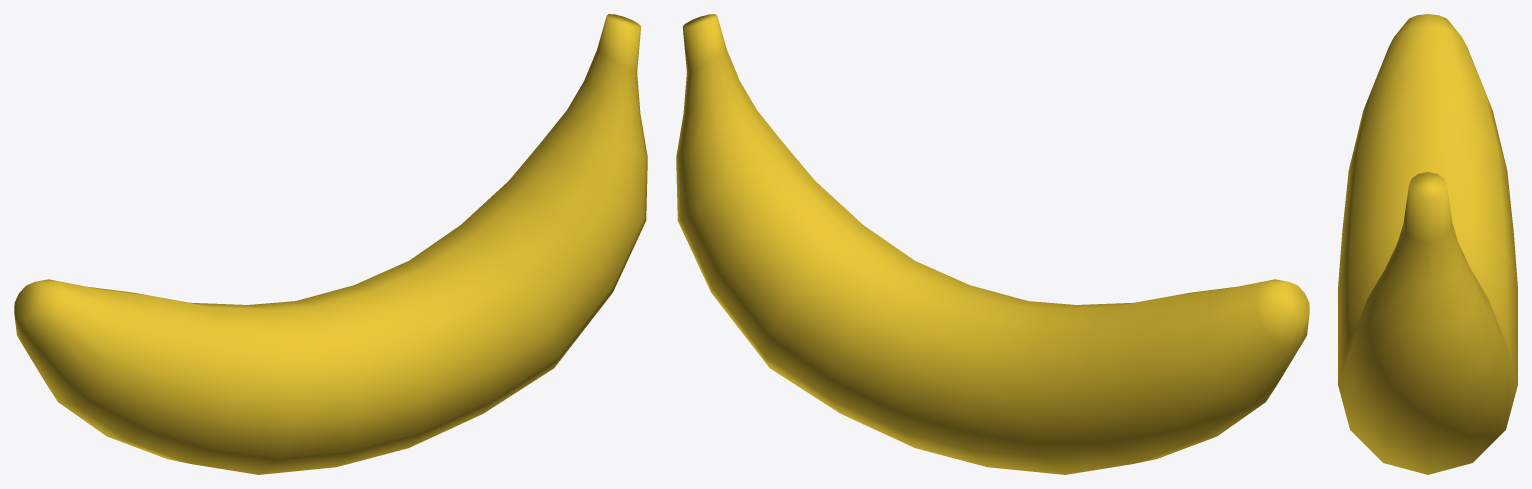
File: banana.fbx
The picture shows the model from 3 angles, left to right: view 1: azimuth 30°, elevation 25°; view 2: azimuth 150°, elevation 25°; view 3: azimuth 270°, elevation 25°; orthographic projection. The views are drawn at different scales.
Parts seen in each view (by area): view 1: banana; view 2: banana; view 3: banana.
Part boxes in pixels (left/top/right/bottom): banana: left=14, top=14, right=647, bottom=474; banana: left=676, top=14, right=1309, bottom=474; banana: left=1338, top=14, right=1517, bottom=474.
Bounding box in the file's own units: 68.03 × 38.8 × 16.27.
